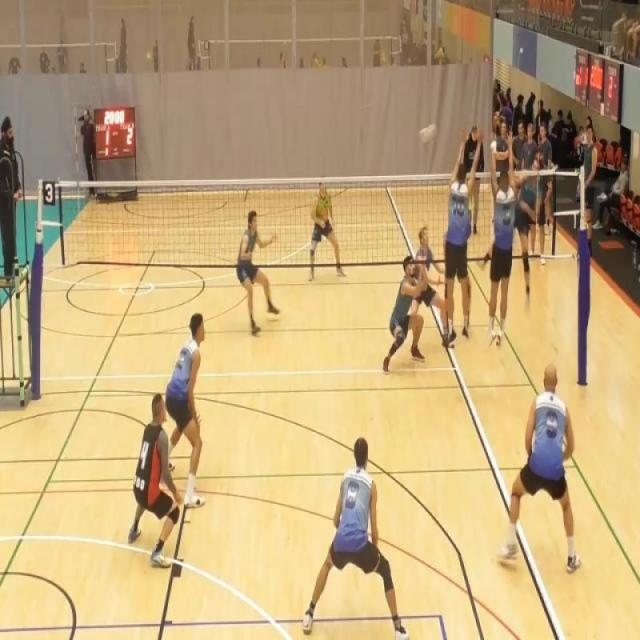volleyball: (418, 121, 438, 148)
